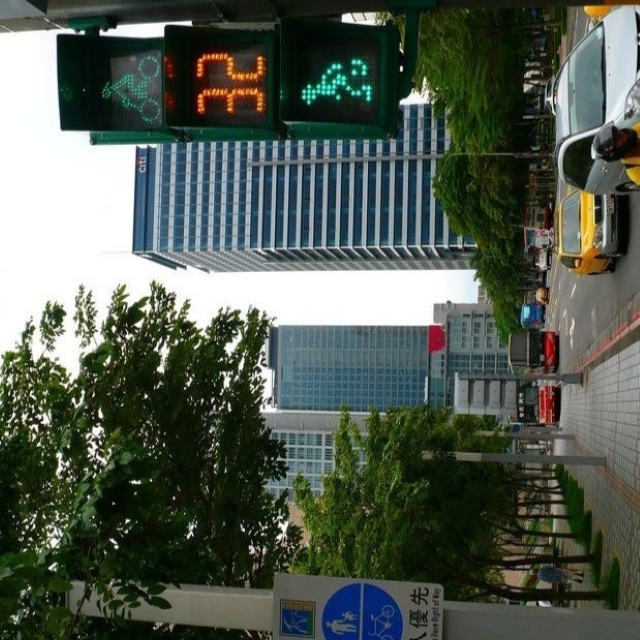green_light: (53, 34, 398, 139)
